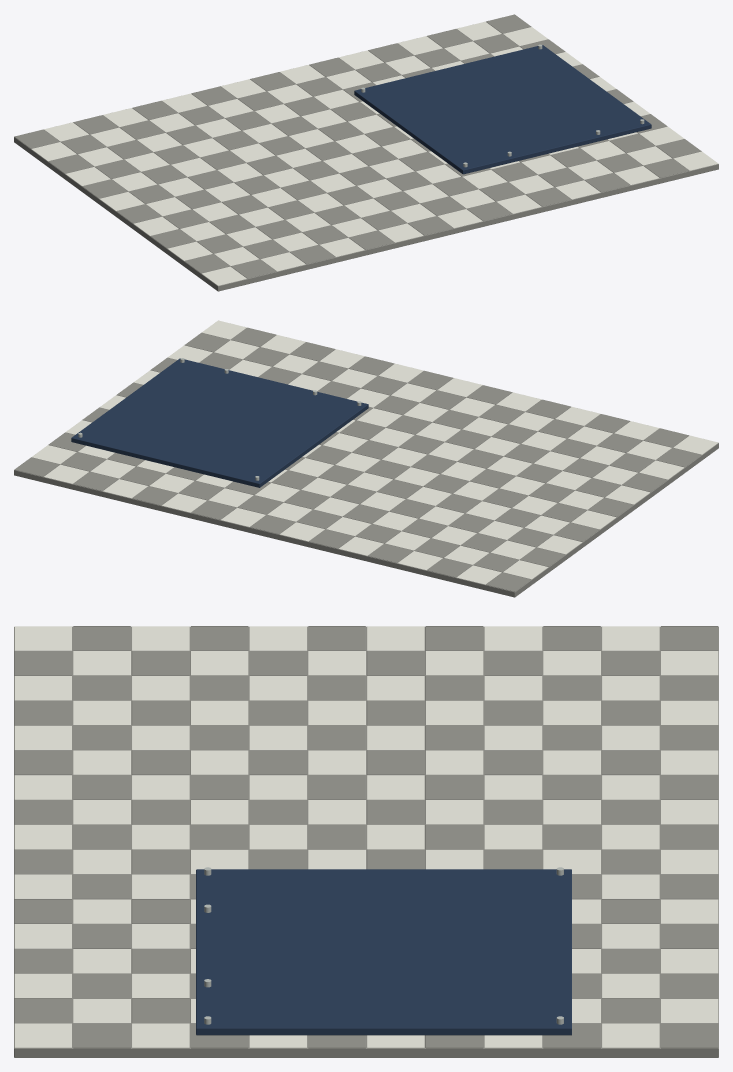
Rendered from planetarium-and-optical-observatory-astronomy-centre-b-2c7b3414__31868.glb.
3 renders of one model, top to bottom at view 1: azimuth 30°, elevation 25°; view 2: azimuth 150°, elevation 25°; view 3: azimuth 270°, elevation 25°, orthographic. The views are drawn at different scales.
Parts seen in each view (by area): view 1: astronomy-centre-base; view 2: astronomy-centre-base; view 3: astronomy-centre-base.
Part boxes in pixels (left/top/right/bottom): astronomy-centre-base: left=14, top=14, right=718, bottom=291; astronomy-centre-base: left=14, top=320, right=718, bottom=597; astronomy-centre-base: left=14, top=626, right=718, bottom=1057.
Bounding box in the file's own units: 17 × 0.429 × 12.
